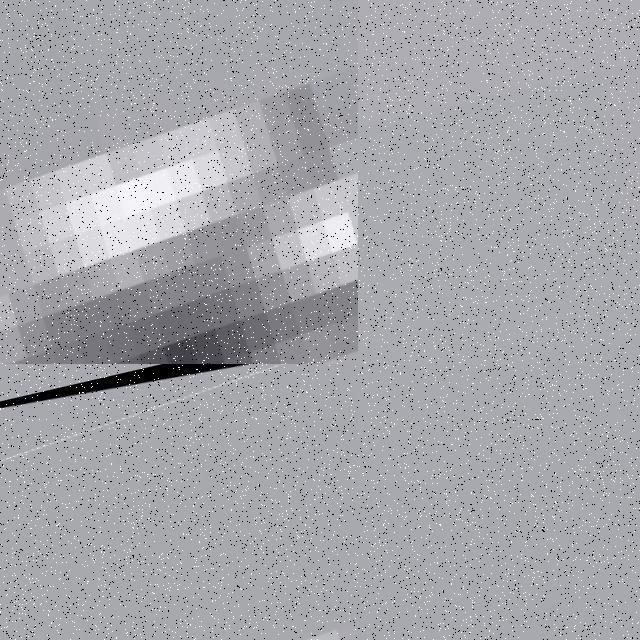drone: (0, 0, 358, 364), (0, 364, 358, 640)
